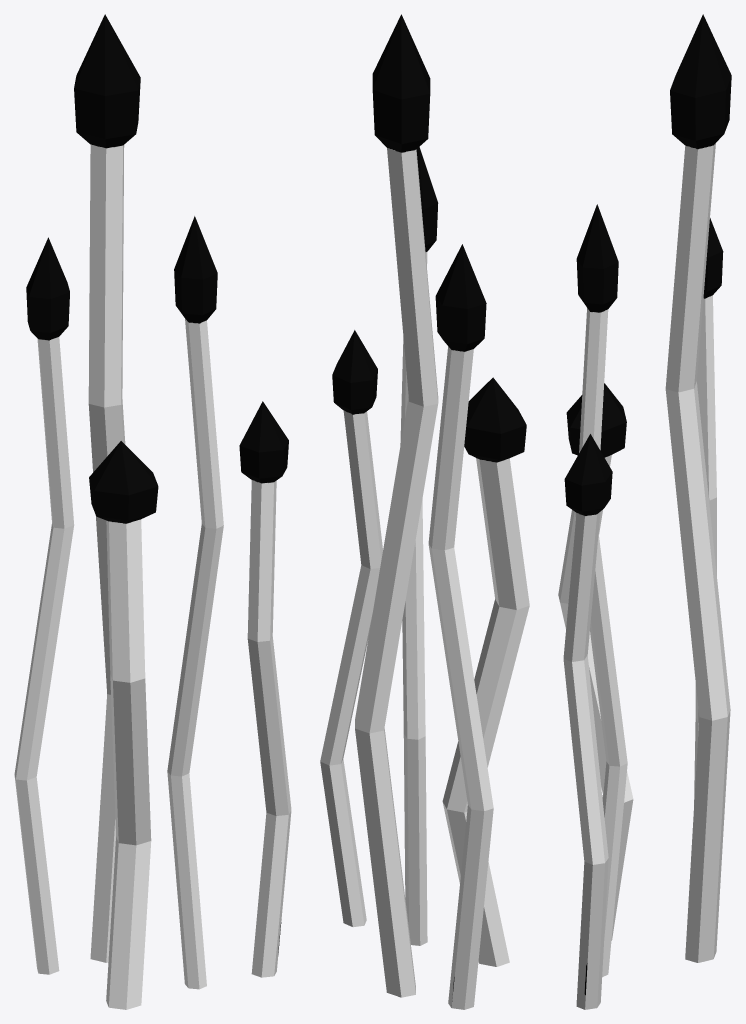
The model's file is flowers.fbx.
The picture shows the model from 3 angles, left to right: view 1: azimuth 30°, elevation 25°; view 2: azimuth 150°, elevation 25°; view 3: azimuth 270°, elevation 25°; orthographic projection. The views are drawn at different scales.
Parts seen in each view (by area): view 1: SP_Plant06; view 2: SP_Plant06; view 3: SP_Plant06.
Boxes of the visible parts, box(x1,y1,x2,y2) form: SP_Plant06: box(14, 14, 291, 1009); SP_Plant06: box(320, 14, 529, 1009); SP_Plant06: box(558, 14, 731, 1009).
Bounding box in the file's own units: 262 × 1068 × 178.
